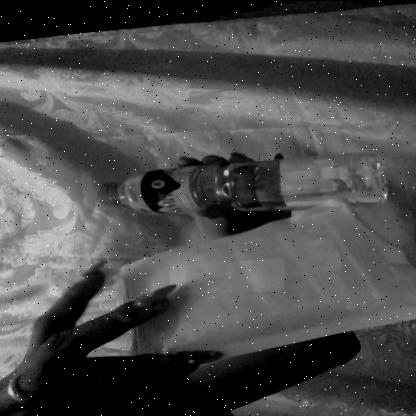Plastic Bottle: (68, 134, 405, 222)
